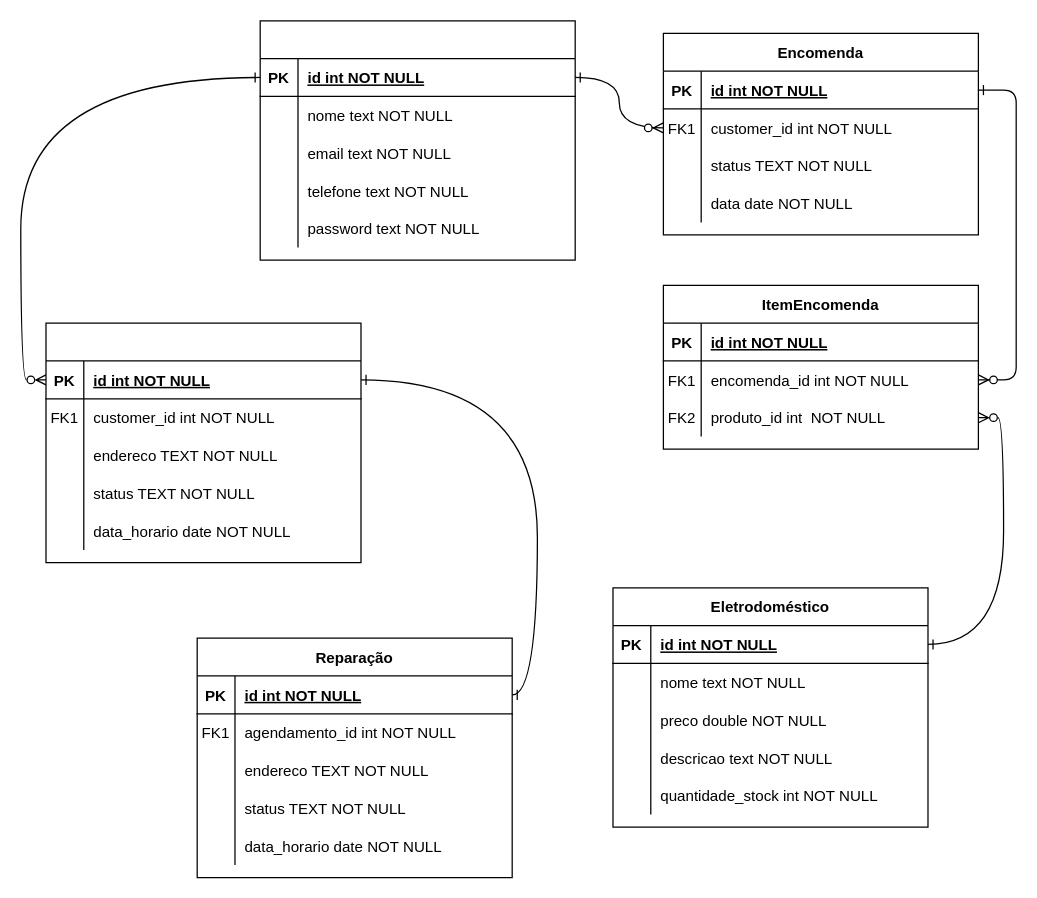
This 1037x898 diagram has some shape labels left out. Each missing label, with the box of its shape:
Agendamento: (45, 322, 361, 563)
Cliente: (259, 20, 575, 260)
